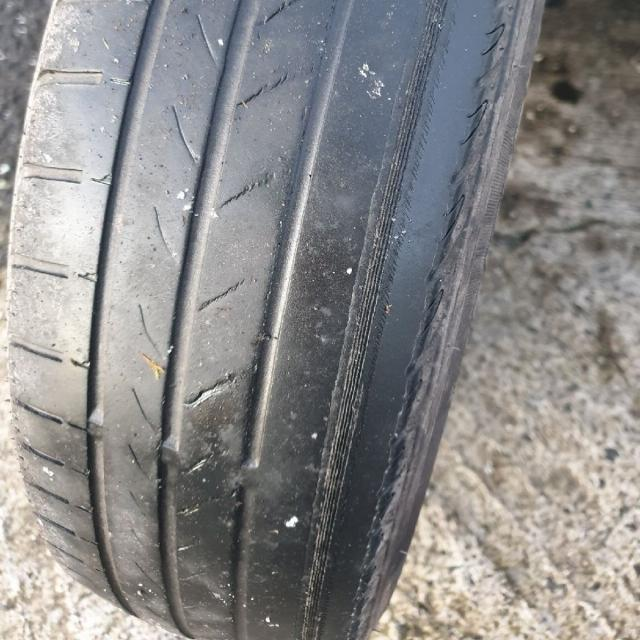Flat spots: (50, 0, 327, 546)
